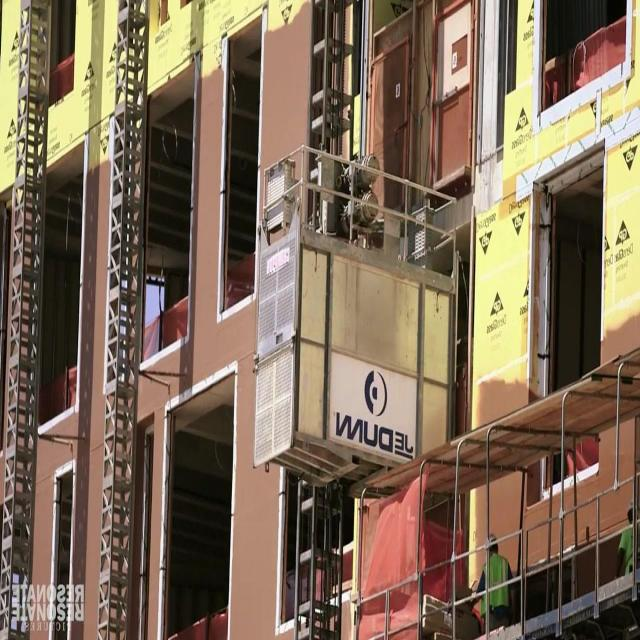Reflective-Jacket: (484, 553, 507, 611)
